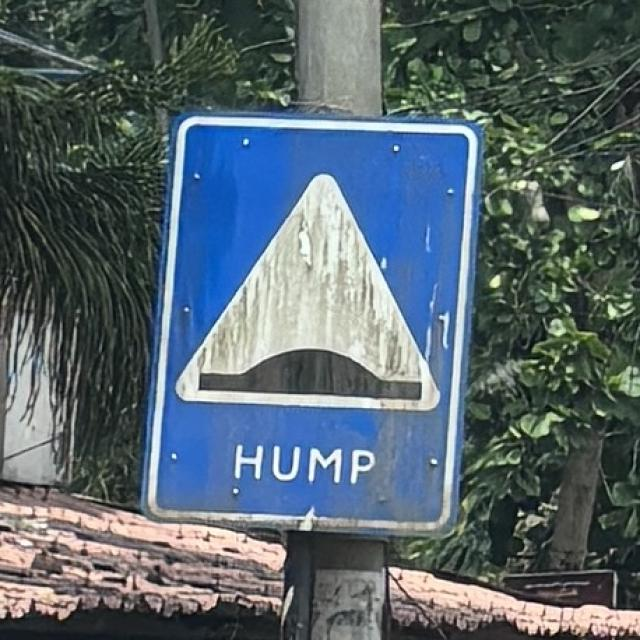HUMP_OR_ROUGH_ROAD: (133, 107, 496, 543)
